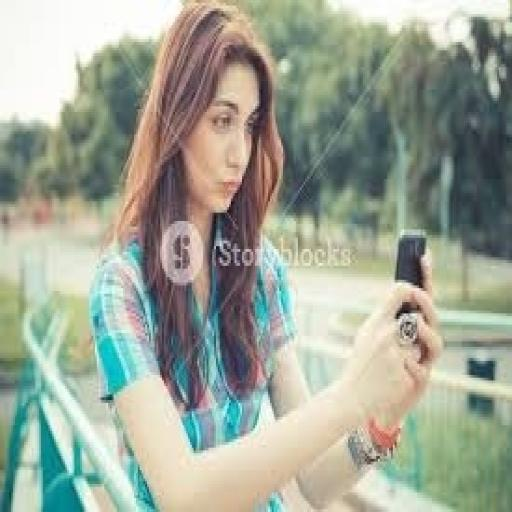texting: (88, 0, 443, 509)
